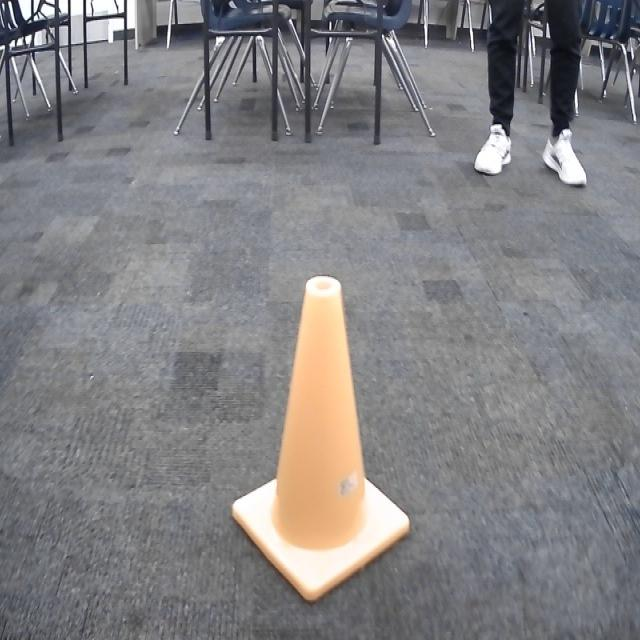cone: (229, 274, 413, 607)
